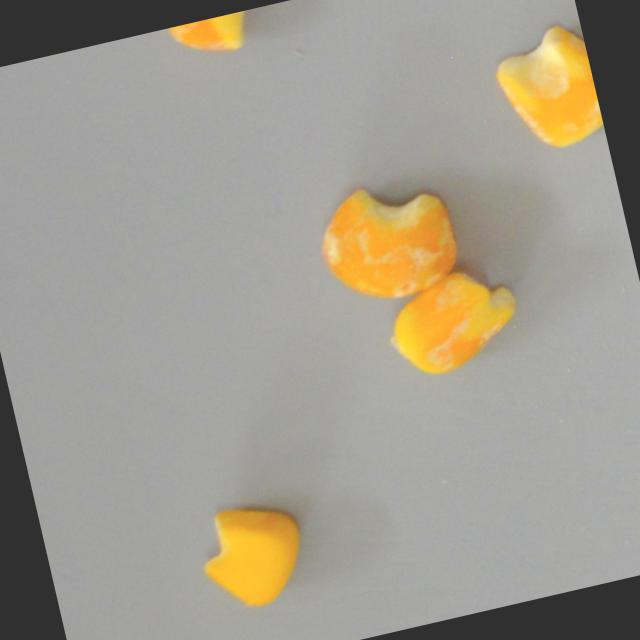no_canjicado: (189, 491, 314, 615)
pelicula: (311, 168, 465, 311), (379, 259, 527, 382), (487, 20, 606, 159), (166, 4, 277, 66)
